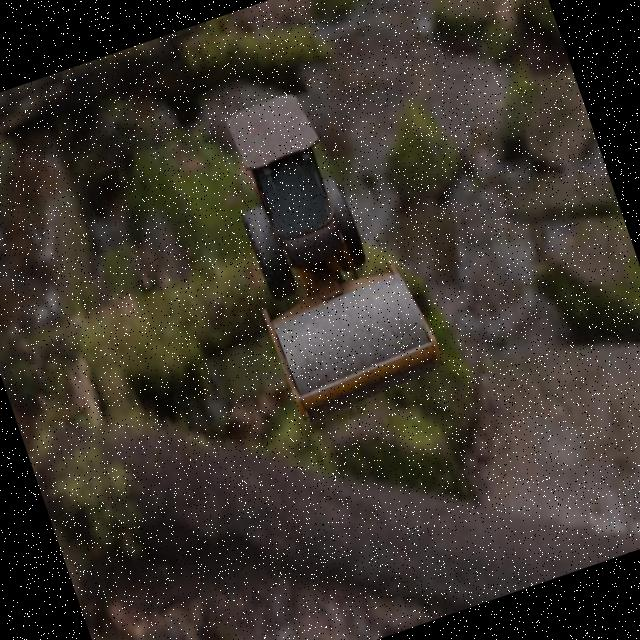Roller: (197, 73, 448, 426)
